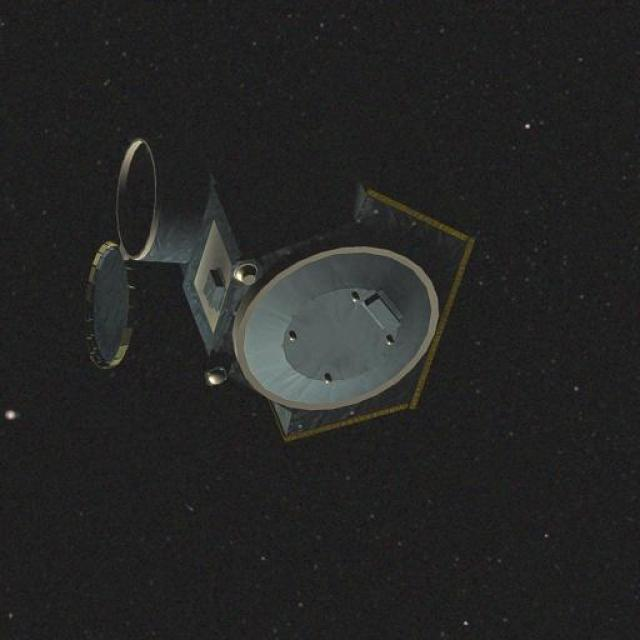cheops: (53, 106, 476, 451)
